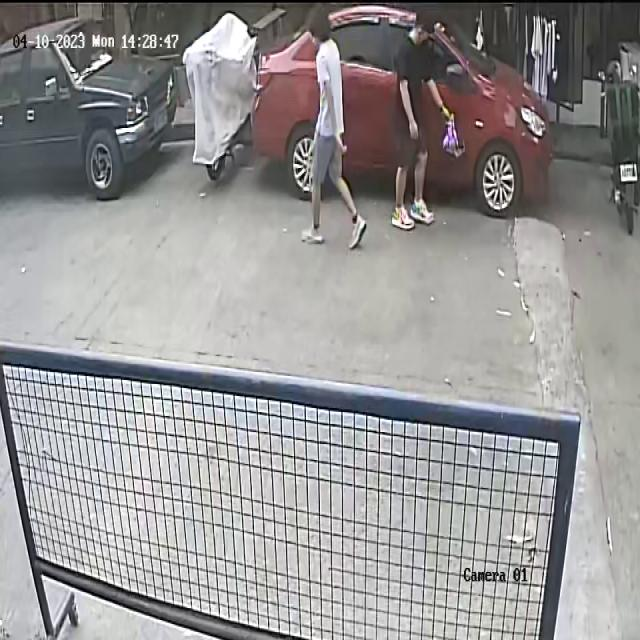human: (392, 13, 463, 232)
trash: (442, 104, 464, 163)
